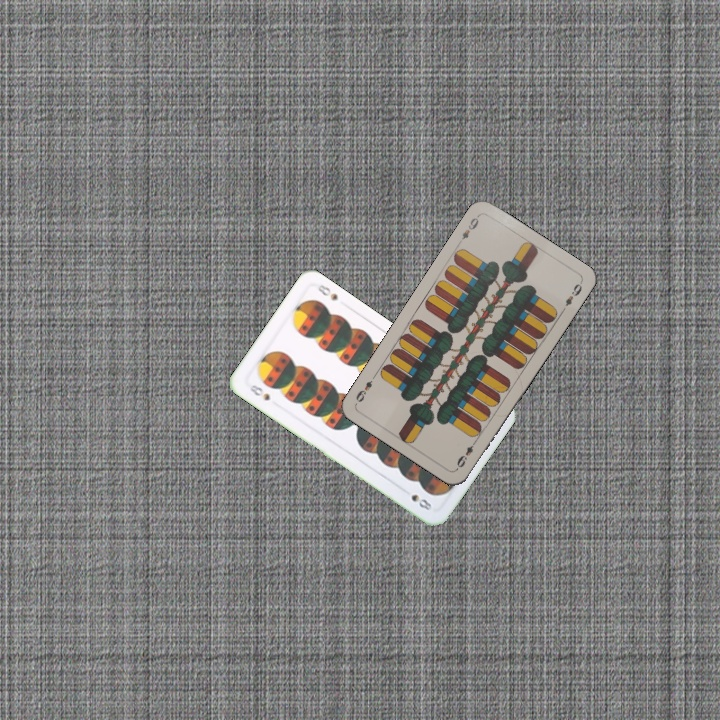E9: (454, 211, 482, 247), (453, 435, 480, 472)
S8: (245, 380, 273, 403)
